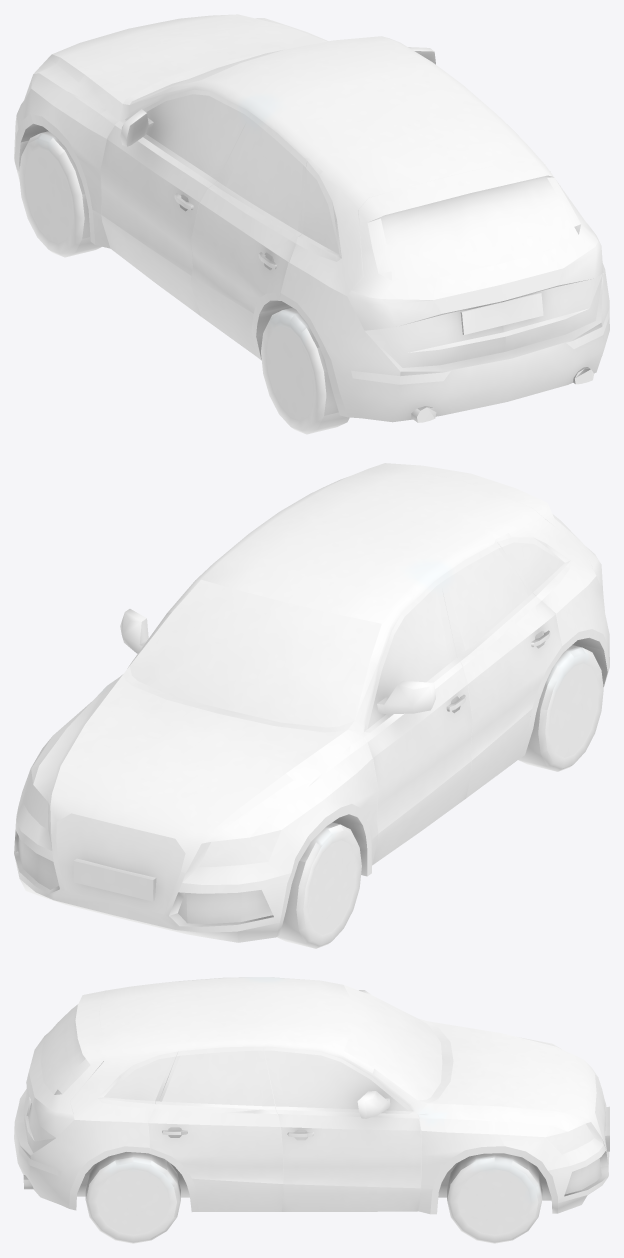
The model's file is CarSuv.glb.
3 renders of one model, top to bottom at view 1: azimuth 30°, elevation 25°; view 2: azimuth 150°, elevation 25°; view 3: azimuth 270°, elevation 25°, orthographic. The views are drawn at different scales.
Visible parts, largest first — view 1: CarSuv, CarSuv.001; view 2: CarSuv, CarSuv.001; view 3: CarSuv, CarSuv.001.
Boxes of the visible parts, x1,y1,x2,y2 form: CarSuv: (14, 14, 609, 422); CarSuv.001: (19, 131, 349, 434); CarSuv: (14, 463, 609, 942); CarSuv.001: (277, 645, 603, 948); CarSuv: (14, 977, 609, 1214); CarSuv.001: (85, 1152, 542, 1243).
Size of the model in its own units: 2.13 by 1.66 by 4.72.
1 material, 1 textured.
